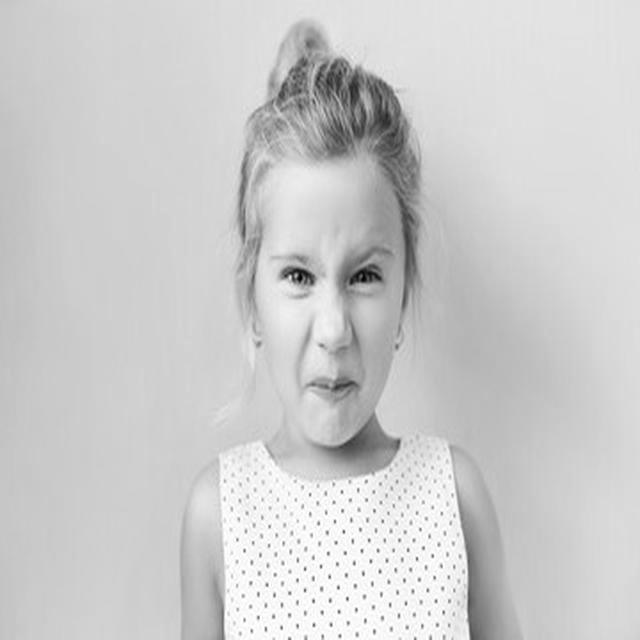Disgust: (255, 153, 410, 453)
